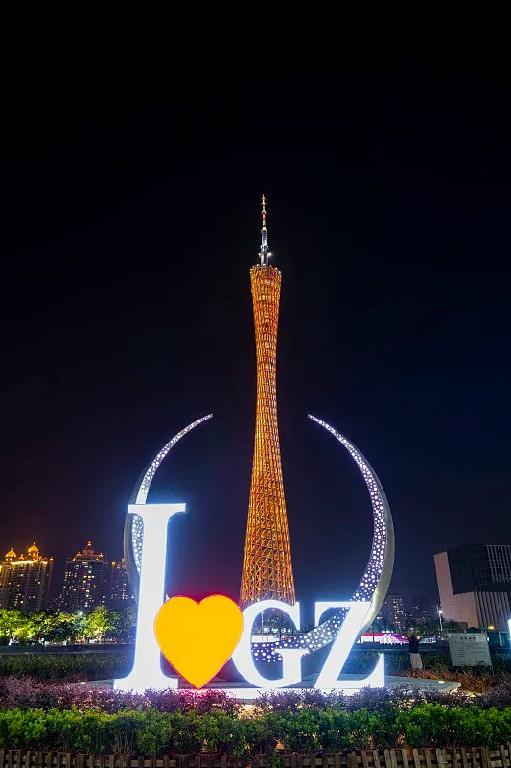Canton: (237, 190, 300, 604)
